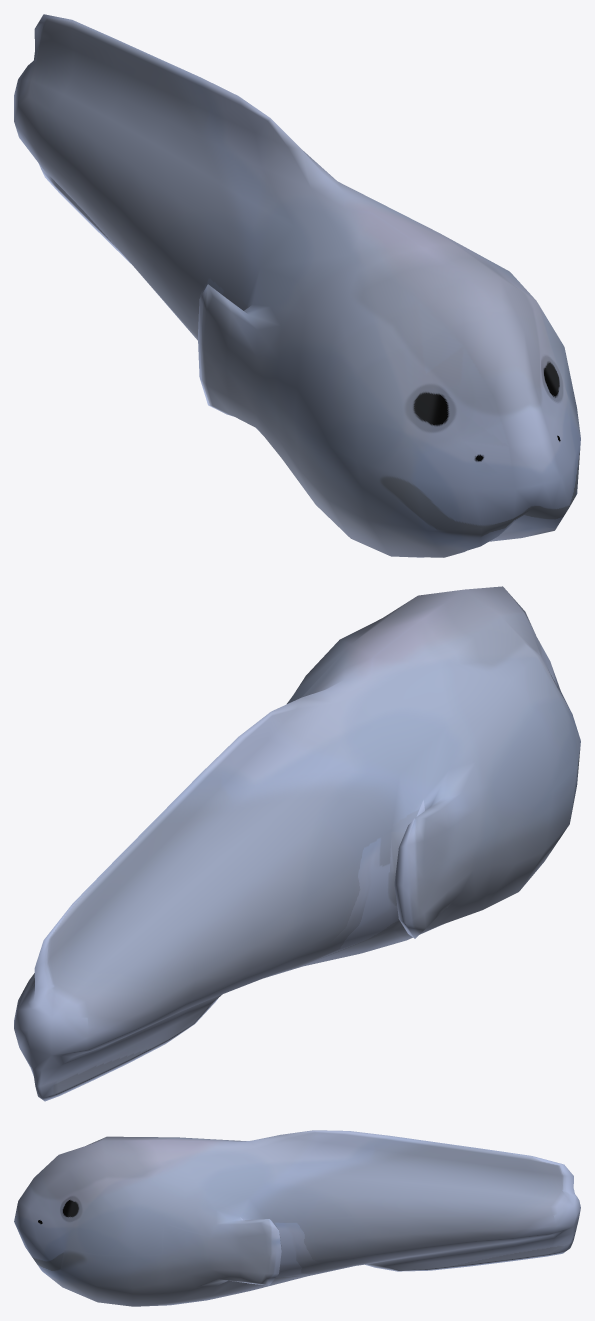
File: Mariana Snailfish.fbx
3 views of the same model, one above another, from view 1: azimuth 30°, elevation 25°; view 2: azimuth 150°, elevation 25°; view 3: azimuth 270°, elevation 25° (orthographic). The views are drawn at different scales.
Visible parts, largest first — view 1: Cube; view 2: Cube; view 3: Cube.
Part boxes in pixels (box(x1,y1,x2,y2)): Cube: box(14, 14, 580, 557); Cube: box(14, 586, 580, 1101); Cube: box(14, 1130, 580, 1306).
Bounding box in the file's own units: 113 × 139 × 430.
Materials: 1 (1 with a texture image).
